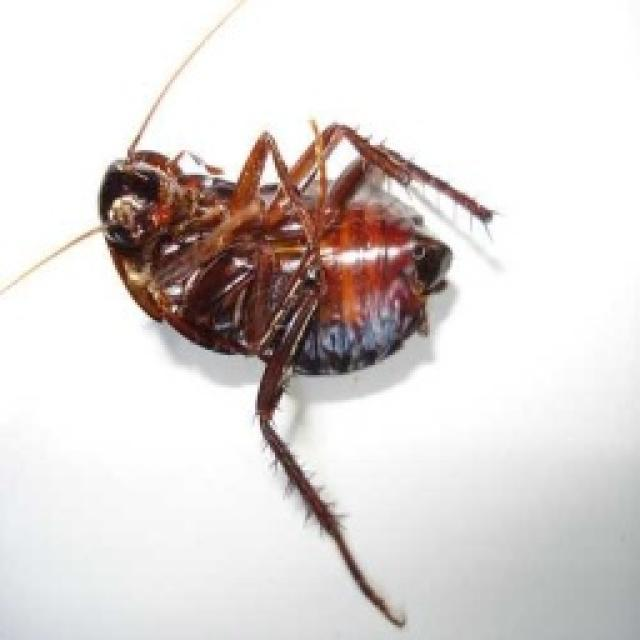cockroach: (82, 57, 473, 525)
